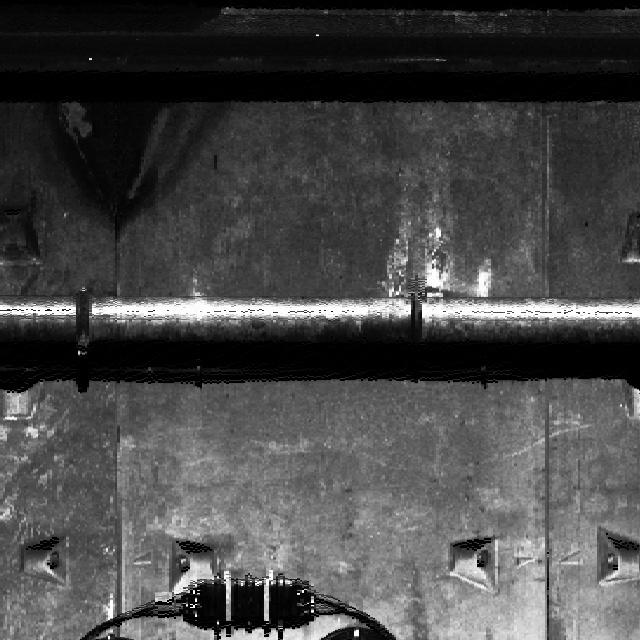leakage: (1, 6, 224, 224)
